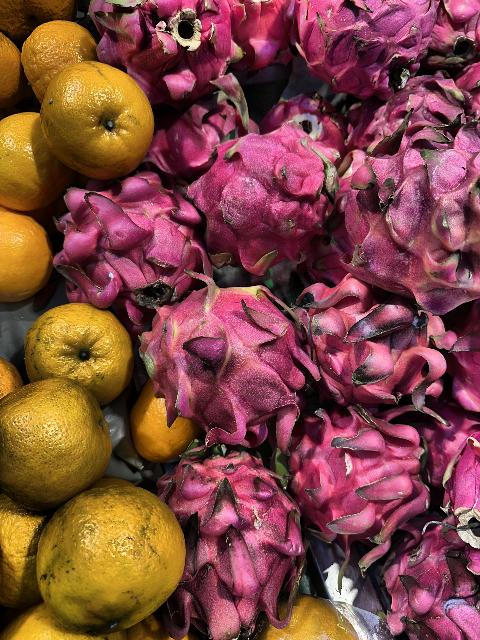buah-naga-belum-matang: (135, 292, 320, 446), (346, 132, 480, 308)
buah-naga-matang: (162, 446, 308, 634), (301, 266, 449, 412), (287, 418, 446, 550), (49, 183, 212, 305), (198, 130, 340, 262), (80, 0, 250, 100), (288, 0, 448, 94), (384, 512, 480, 640)
